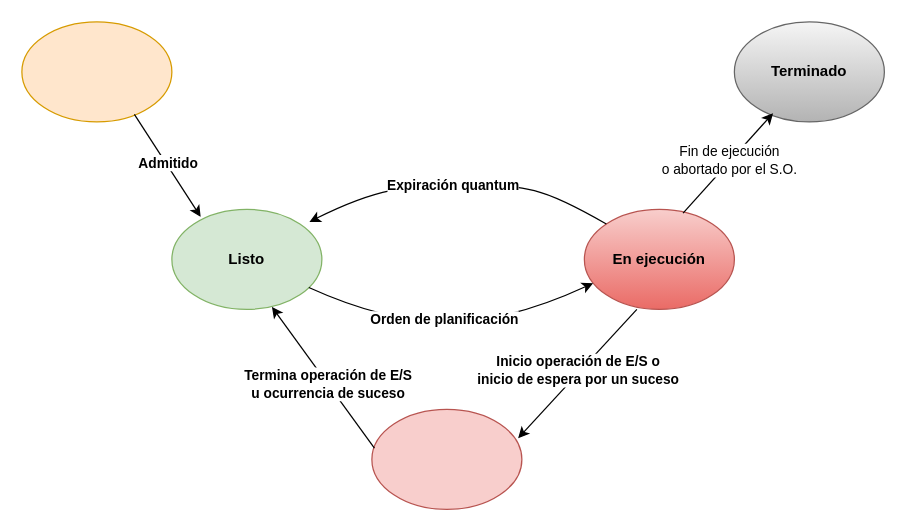
The diagram is 906 pixels wide and 531 high, and some of its shapes have lost their labels. The centre of each missing label's shape, as x and y in pixels:
En espera: point (446, 458)
Nuevo: point (96, 71)
